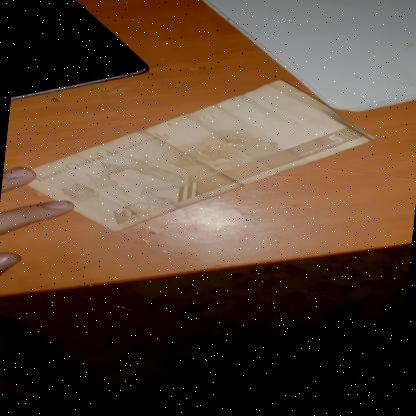five-back-vef: (15, 51, 381, 263)
